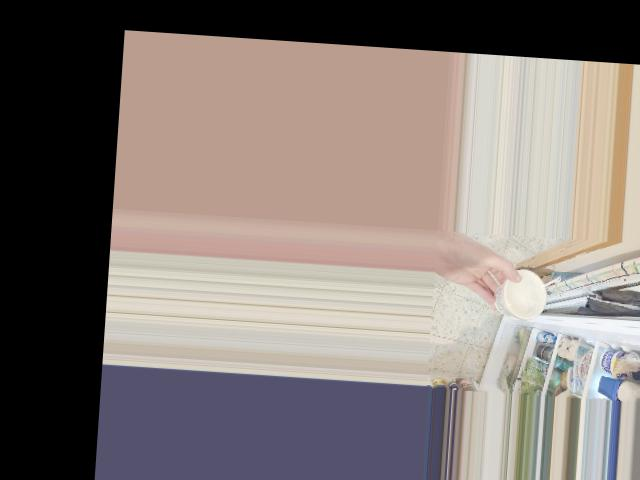cotage: (499, 274, 553, 320)
